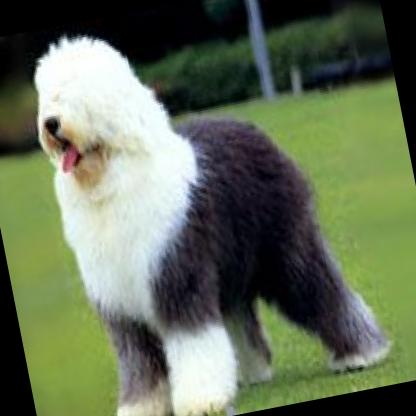Old_English_sheepdog: (12, 0, 401, 416)
